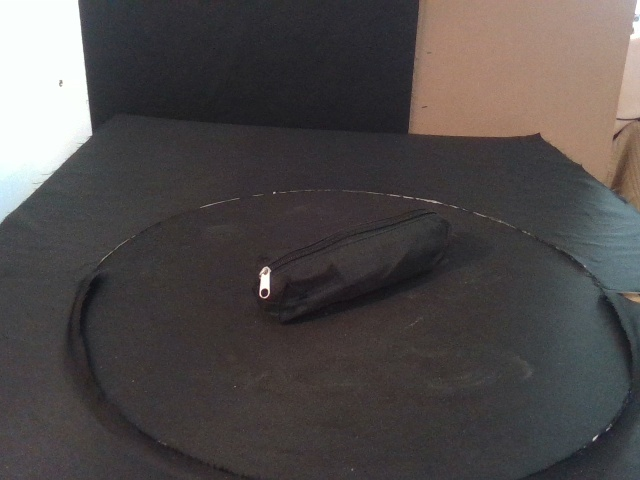pencil_case: (252, 210, 452, 323)
